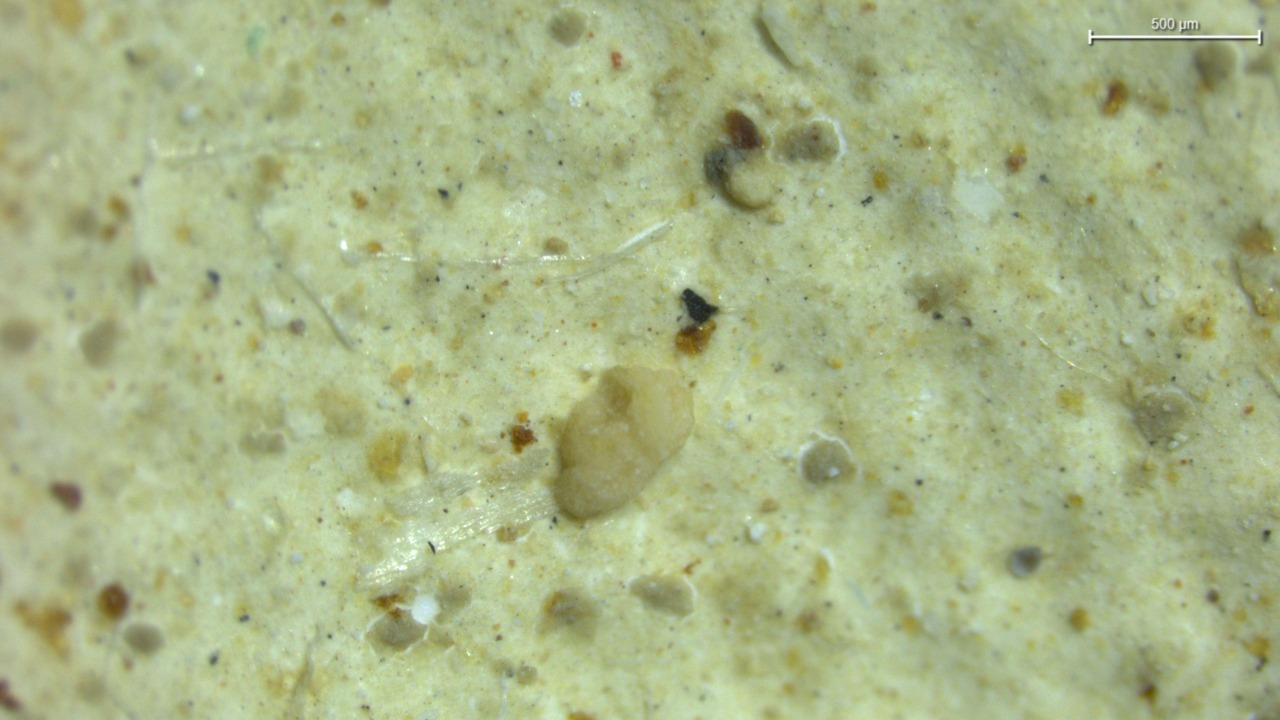microplastic_fragment: (362, 448, 556, 584), (559, 366, 694, 519), (723, 156, 788, 209)
